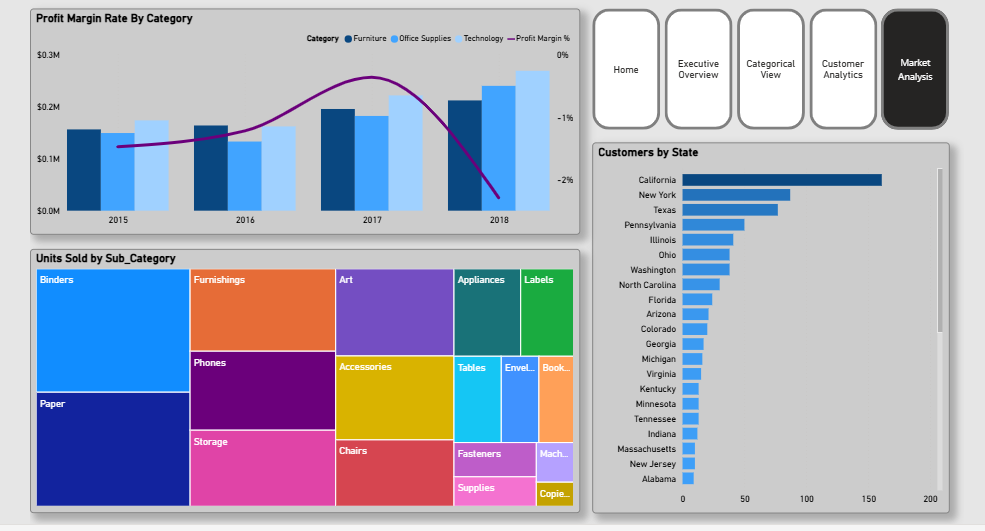

This screenshot's page, from the dashboard's own definition file:
{"tool":"powerbi","page":{"name":"Market Analysis","canvas":[1280,720],"ordinal":4},"visuals":[{"type":"pageNavigator","box":[770,14,490,166],"z":0},{"type":"clusteredBarChart","title":"Customers by State","fields":{"Category":["customers_dim.State"],"Y":["customers_dim.Total Customers"]},"box":[770,198,490,508],"z":1000},{"type":"treemap","title":"Units Sold by Sub_Category","fields":{"Group":["products_dim.Sub_Category"],"Values":["order_details_fact.Total Units Sold"]},"box":[0,344,754,362],"z":2000},{"type":"lineClusteredColumnComboChart","title":"Profit Margin Rate By Category","fields":{"Y":["order_details_fact.Total Revenue"],"Series":["products_dim.Category"],"Y2":["order_details_fact.Profit Margin %"],"Category":["orders_dim.Order_Date.Variation.Date Hierarchy.Year"]},"box":[0,14,754,310],"z":3000}]}

Visuals, with their boxes in screenshot pixels (x1, y1, x2, y2):
pageNavigator: l=591, t=5, r=947, b=126
"Customers by State" clusteredBarChart: l=591, t=139, r=947, b=508
"Units Sold by Sub_Category" treemap: l=31, t=245, r=579, b=508
"Profit Margin Rate By Category" lineClusteredColumnComboChart: l=31, t=5, r=579, b=231
